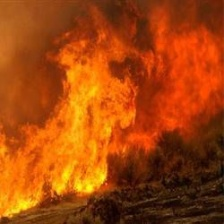fire: (3, 33, 147, 218)
